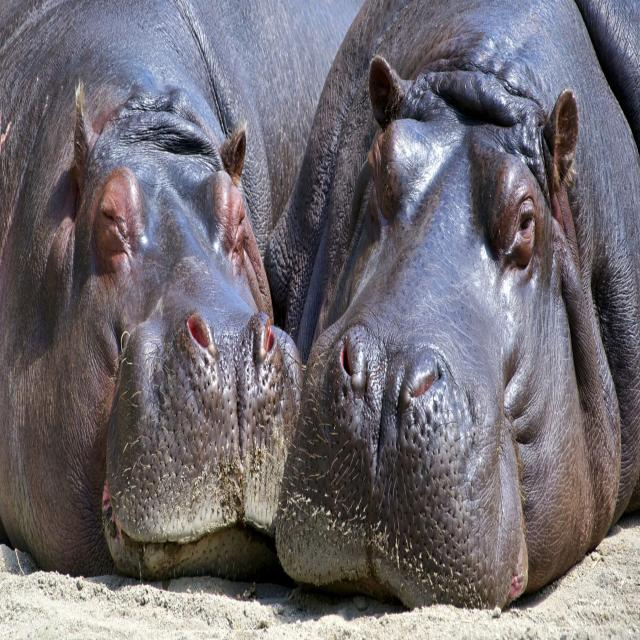hippopotamus: (265, 0, 640, 608), (0, 0, 360, 579)
